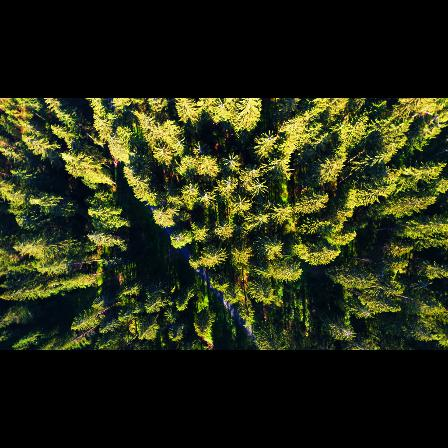Sick: (181, 182, 203, 197), (224, 152, 242, 168)
